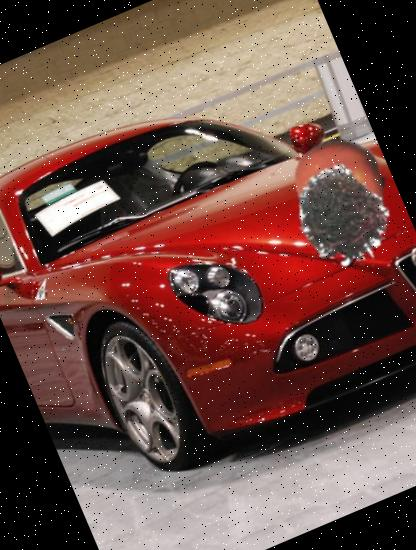Clementine: (274, 124, 408, 258)
Rambutan: (269, 141, 416, 289)
